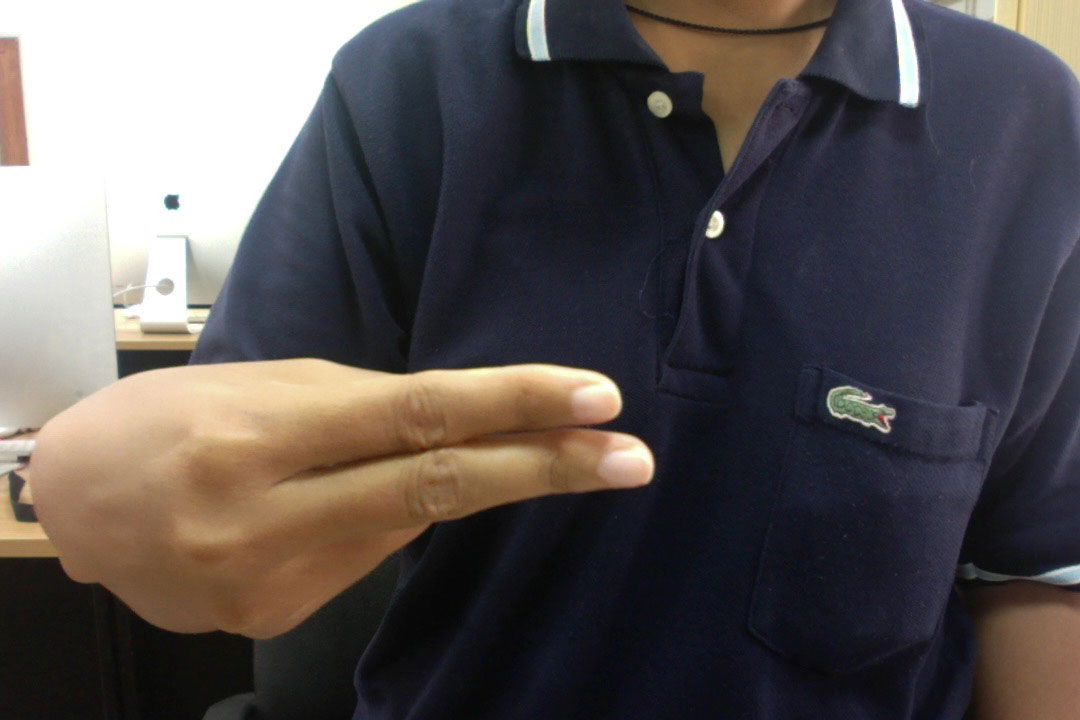hor: (23, 349, 668, 645)
